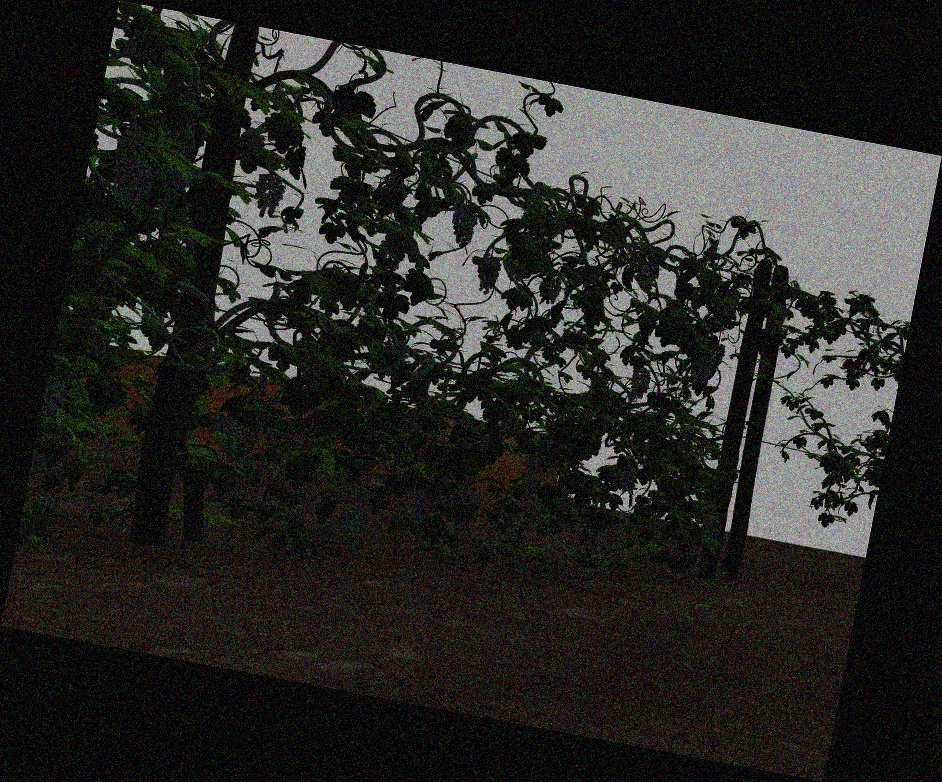grape: (114, 155, 151, 207), (253, 172, 284, 218), (337, 504, 368, 546), (696, 341, 724, 385), (450, 204, 477, 248), (477, 255, 502, 293), (45, 376, 68, 417), (408, 486, 432, 525), (521, 455, 540, 497), (31, 454, 58, 483), (383, 340, 410, 368), (630, 367, 651, 398), (212, 416, 241, 438), (616, 461, 636, 492), (768, 303, 788, 332), (543, 276, 562, 305), (238, 429, 257, 457), (704, 516, 722, 543), (646, 516, 666, 537), (700, 500, 717, 524), (557, 498, 578, 516)
